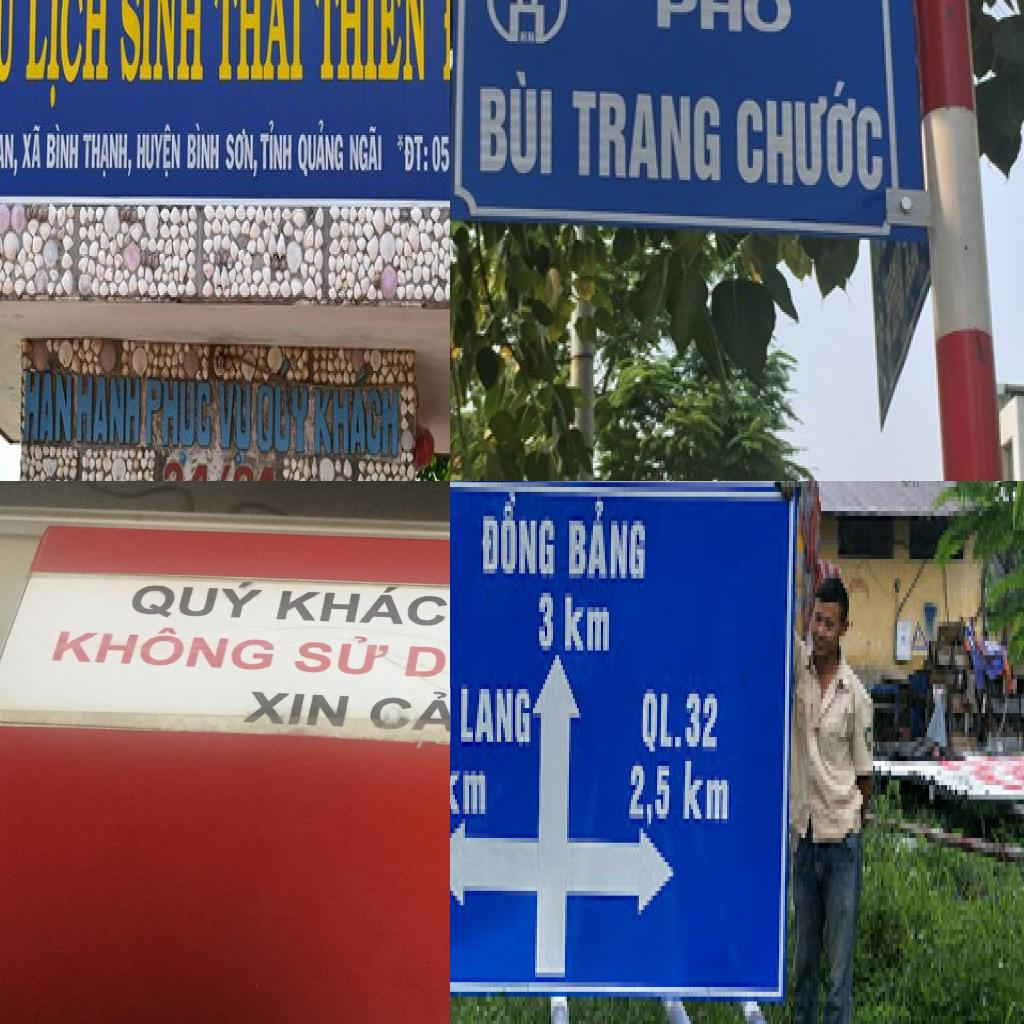text: (735, 75, 890, 199), (570, 86, 724, 190), (46, 619, 276, 671), (315, 0, 431, 92), (25, 0, 115, 116), (266, 581, 450, 633), (476, 68, 559, 182), (214, 0, 307, 92), (567, 492, 649, 593), (120, 0, 208, 94), (315, 375, 403, 468), (122, 574, 272, 624), (479, 487, 557, 583), (654, 0, 796, 43), (147, 384, 215, 472), (257, 365, 313, 463), (237, 686, 356, 732), (78, 377, 145, 455), (457, 684, 533, 752), (288, 634, 396, 679), (25, 367, 77, 453), (365, 687, 450, 738), (639, 684, 685, 766), (563, 593, 613, 665), (683, 761, 733, 833), (627, 761, 673, 838), (220, 386, 257, 474), (450, 756, 491, 828), (396, 640, 450, 694), (300, 127, 347, 186), (685, 684, 721, 761), (84, 137, 136, 188), (138, 129, 182, 188), (0, 0, 21, 92), (262, 127, 296, 182), (228, 133, 262, 186), (352, 129, 386, 182), (188, 129, 223, 180), (398, 137, 434, 182), (48, 131, 82, 178), (164, 469, 284, 481), (537, 593, 557, 655), (24, 131, 46, 178), (0, 139, 21, 186)
